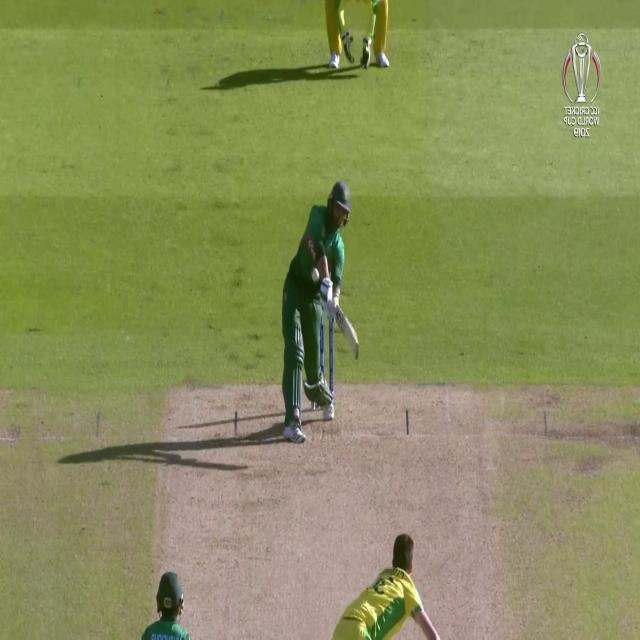ball: (310, 262, 322, 284)
